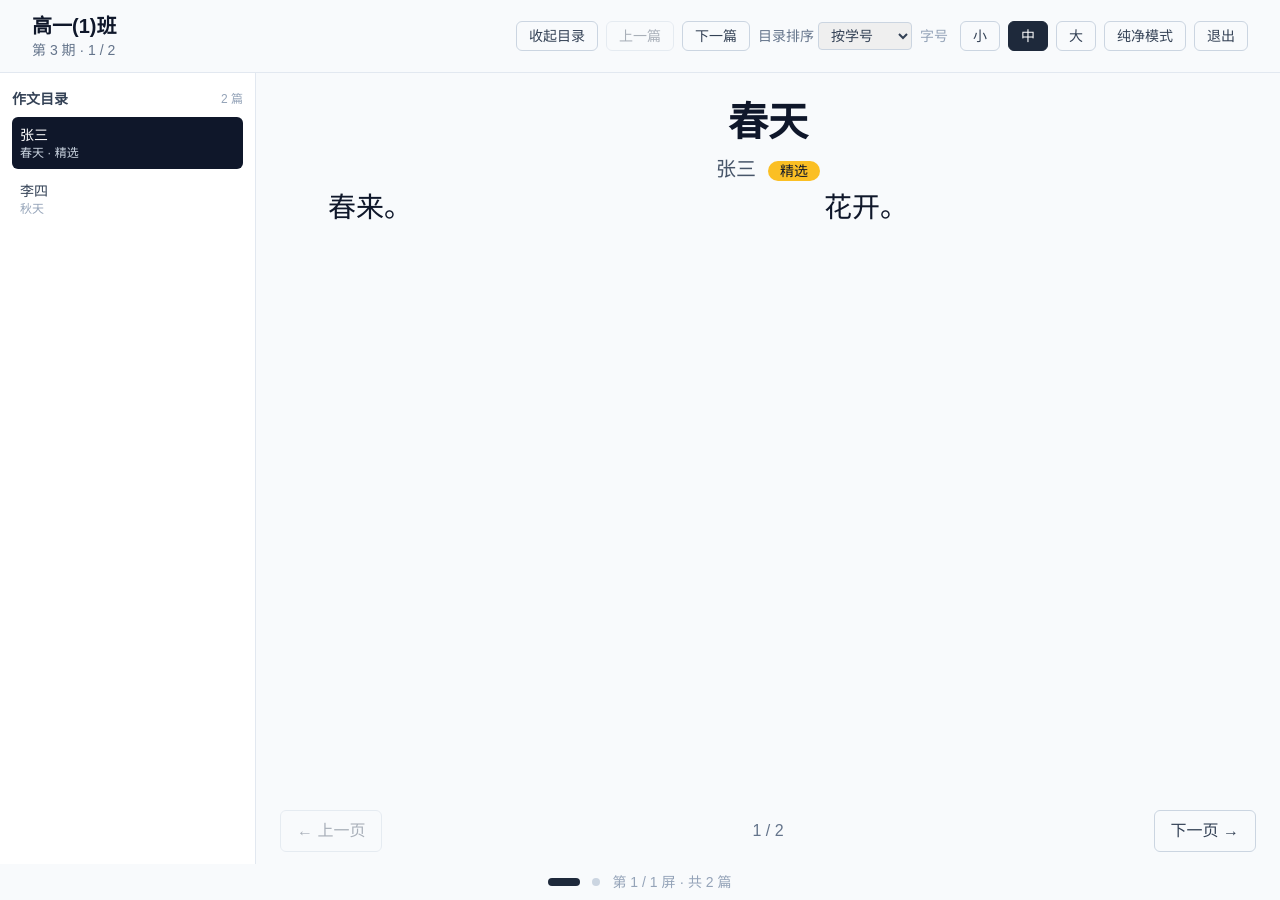
it: 跨篇翻页回归（真机 GAP-08：只能看到一篇） › 只有全站最后一屏才禁用下一页
Expected: the element with test id "present-body" is shown, left=328, top=192, right=908, bottom=223
Expected: the text with test id "pager-progress" reads "1 / 2", left=752, top=822, right=784, bottom=839
Click the button "下一页 →".
click(1205, 831)  # box left=1154, top=810, right=1256, bottom=852
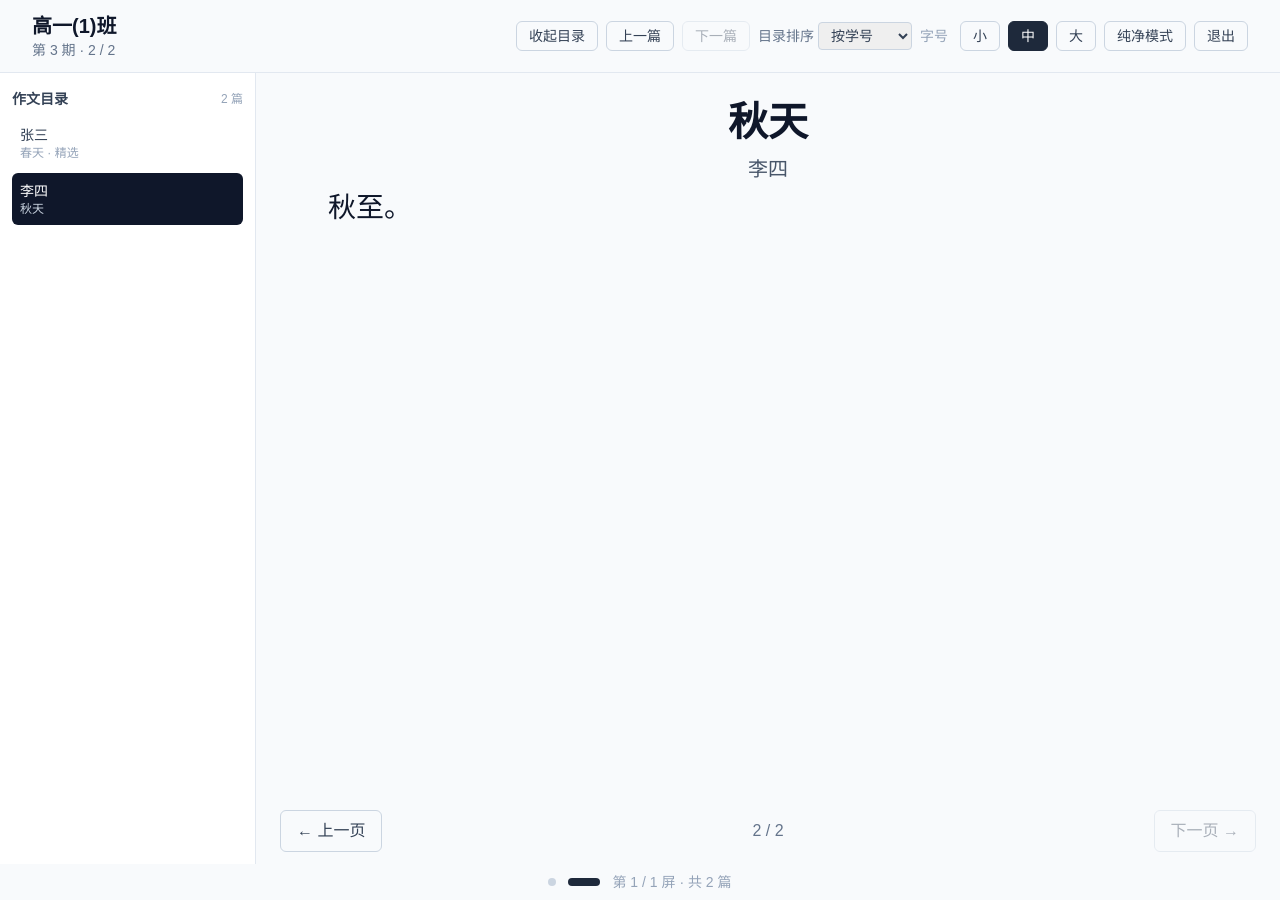
Expected: the text with test id "present-name" reads "李四", left=748, top=158, right=788, bottom=180
Expected: the button "下一页 →" is disabled, left=1154, top=810, right=1256, bottom=852
Expected: the button "← 上一页" is enabled, left=280, top=810, right=382, bottom=852
